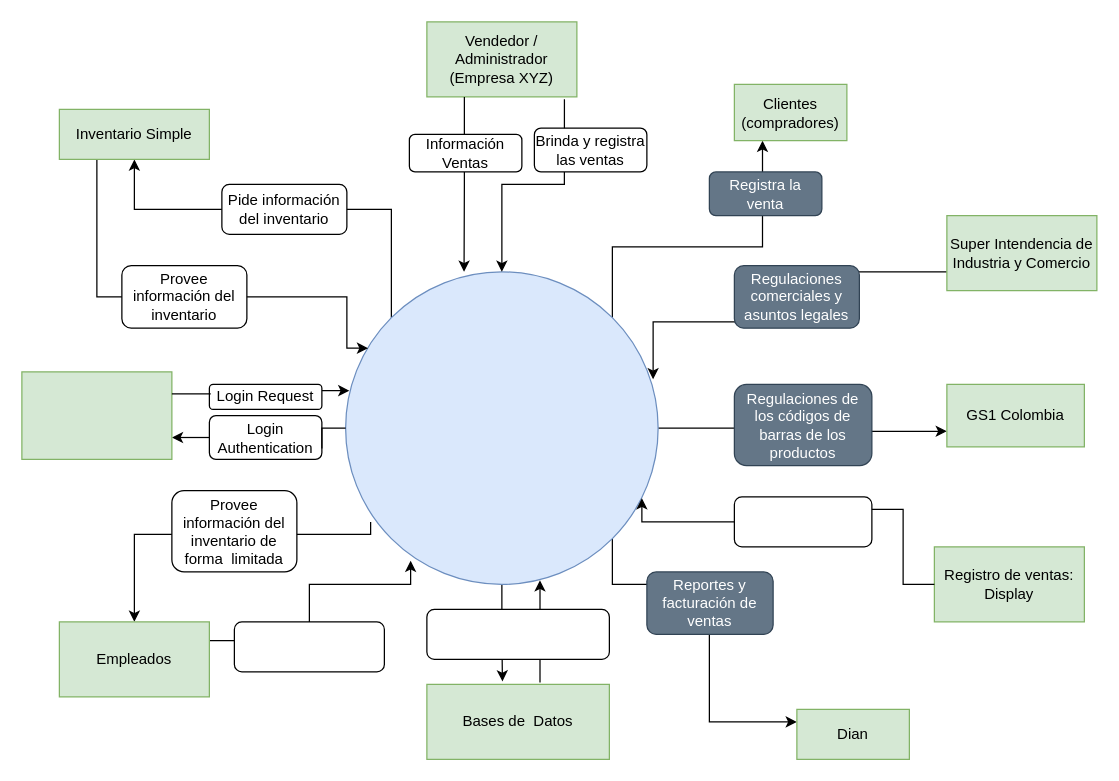
Image size: 1119x781. Some labels were removed from this diagram. The shapes that lost their labels are listed below. From the top down, each one's centre as x and y in pixels, then its label:
At (x=96, y=415): "Empresa XYZ".
At (x=501, y=427): "Aplicación Registro de Ventas".
At (x=802, y=521): "Proyectar/Mostrar información".
At (x=308, y=646): "Entregan información adicional al sistema".
At (x=517, y=633): "Consultar / Almacenar Información de Cuenta".
